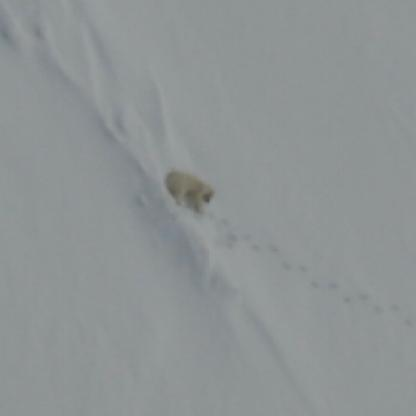polar-bear: (164, 172, 214, 214)
